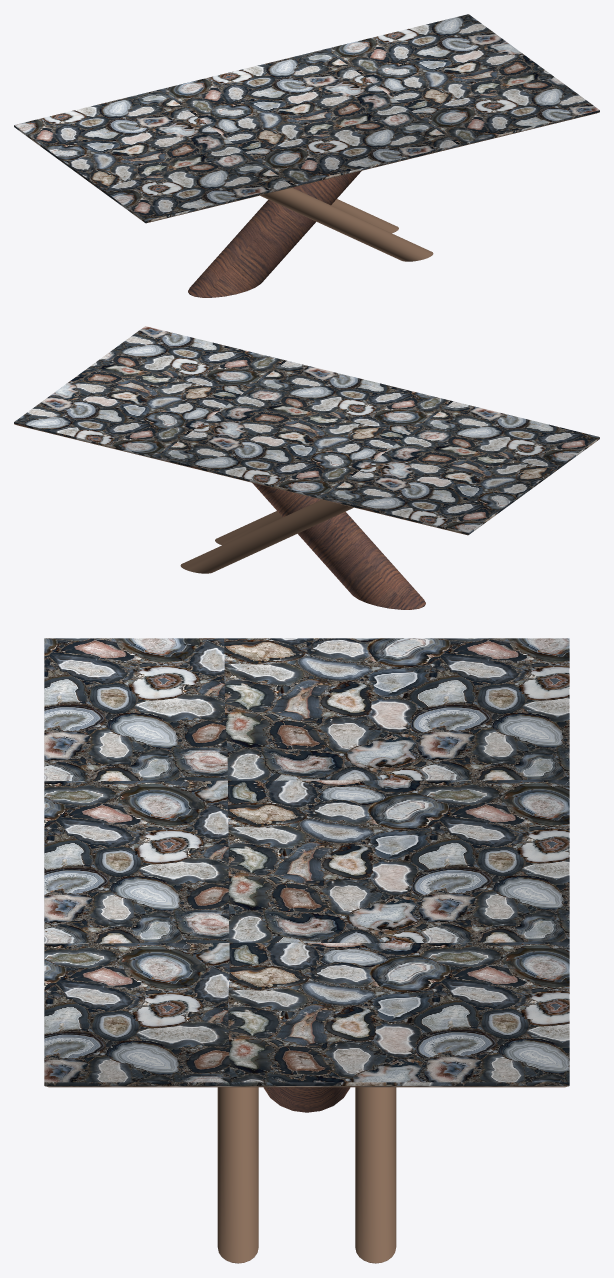
Rendered from SBH_WEDGE.glb.
The picture shows the model from 3 angles, top to bottom: view 1: azimuth 30°, elevation 25°; view 2: azimuth 150°, elevation 25°; view 3: azimuth 270°, elevation 25°; orthographic projection. The views are drawn at different scales.
Visible parts, largest first — view 1: WEDGE; view 2: WEDGE; view 3: WEDGE.
Part boxes in pixels (x1,y1,x2,y2): WEDGE: (14, 14, 599, 297); WEDGE: (14, 326, 599, 609); WEDGE: (44, 638, 569, 1263).
Size of the model in its own units: 2.4 by 0.7499 by 1.2.
Materials: 5 (2 with a texture image).
